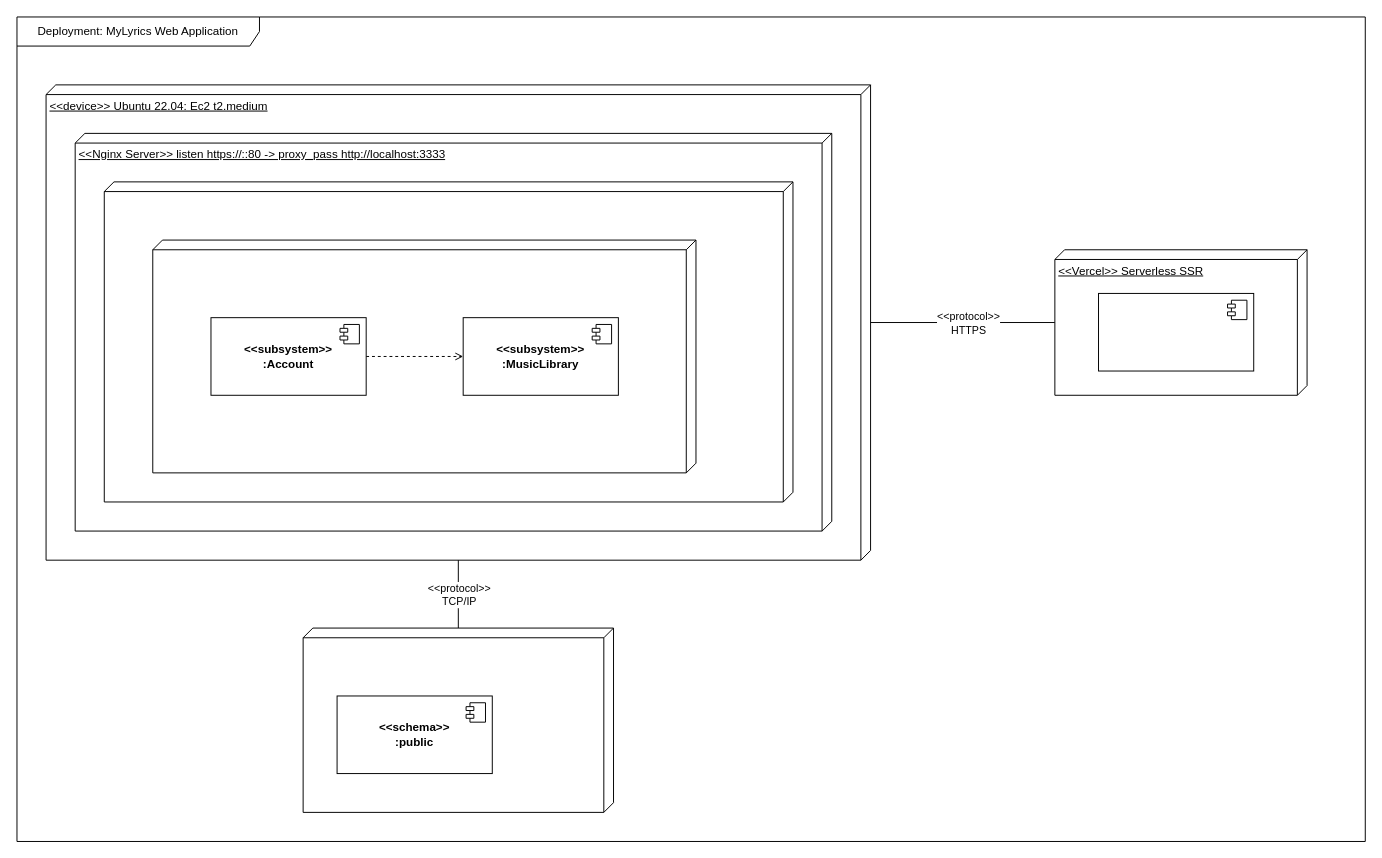
Some shapes in this 1382 by 858 pixel diagram are drawn without their labels. Each missing label, with the box of its shape:
<<device>> Postgres Server: db.t3.micro: (302, 627, 614, 812)
<<Express Server>>: Express listen 3333: (152, 239, 696, 473)
<<pm2>> runner handling: (103, 181, 793, 502)
<<subsystem>> :Frontend: (1098, 292, 1254, 371)
